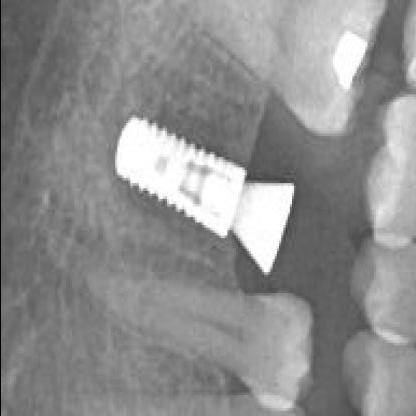ITI: (90, 93, 252, 260)
